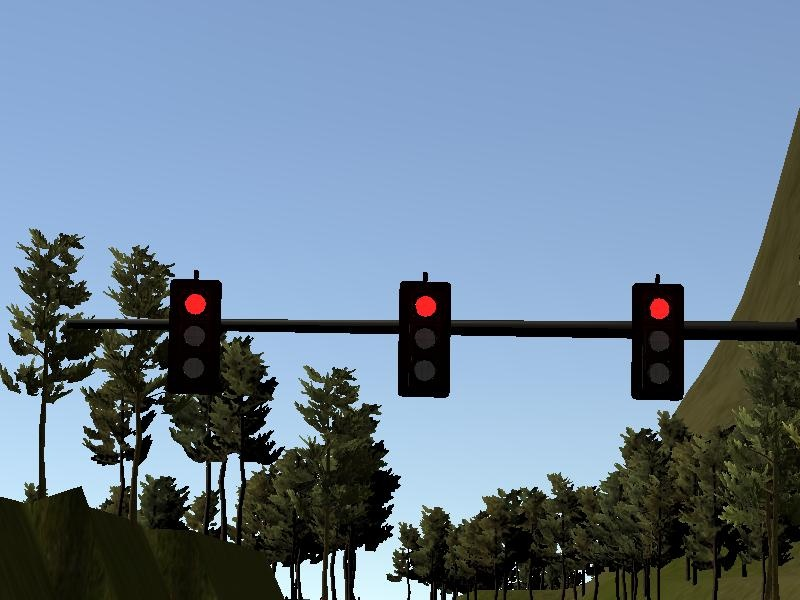red: (394, 274, 453, 401), (630, 275, 687, 404), (165, 275, 224, 395)
